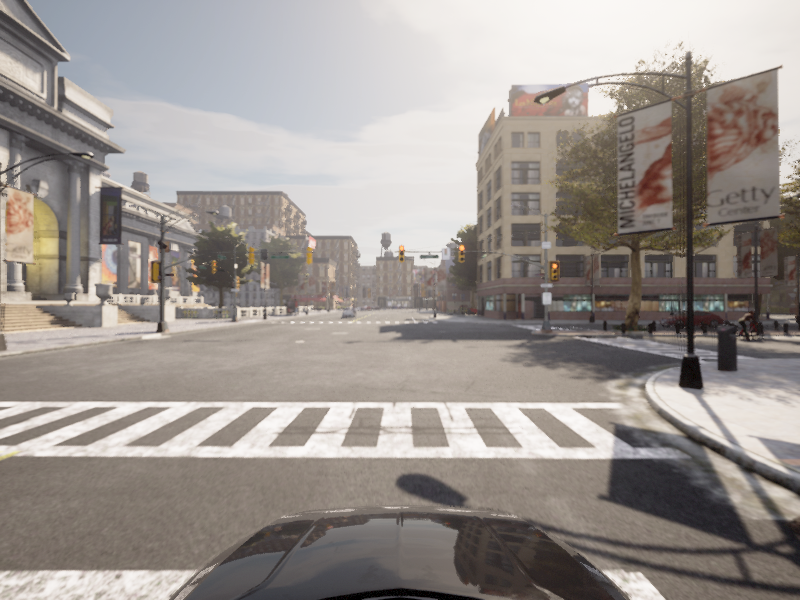vehicle: (655, 310, 727, 328), (728, 310, 768, 341)
